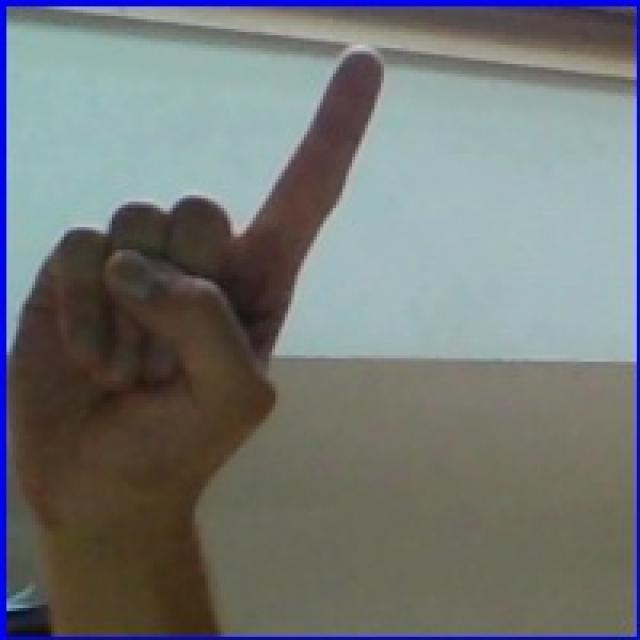Z: (11, 28, 412, 636)
